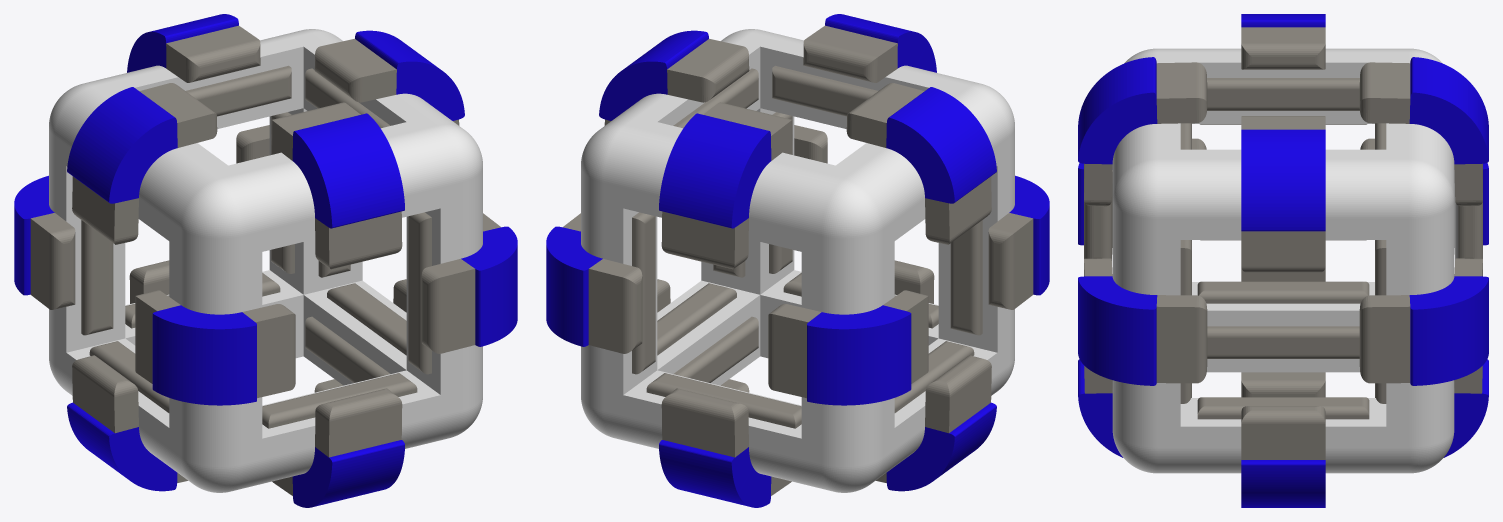
File: turret_head_v2.fbx
3 views of the same model, side by side, from view 1: azimuth 30°, elevation 25°; view 2: azimuth 150°, elevation 25°; view 3: azimuth 270°, elevation 25° (orthographic).
Parts seen in each view (by area): view 1: Turret.001; view 2: Turret.001; view 3: Turret.001.
Boxes of the visible parts, box(x1,y1,x2,y2) form: Turret.001: box(14, 14, 517, 507); Turret.001: box(546, 14, 1049, 507); Turret.001: box(1078, 14, 1488, 507).
Size of the model in its own units: 208 by 208 by 208.
